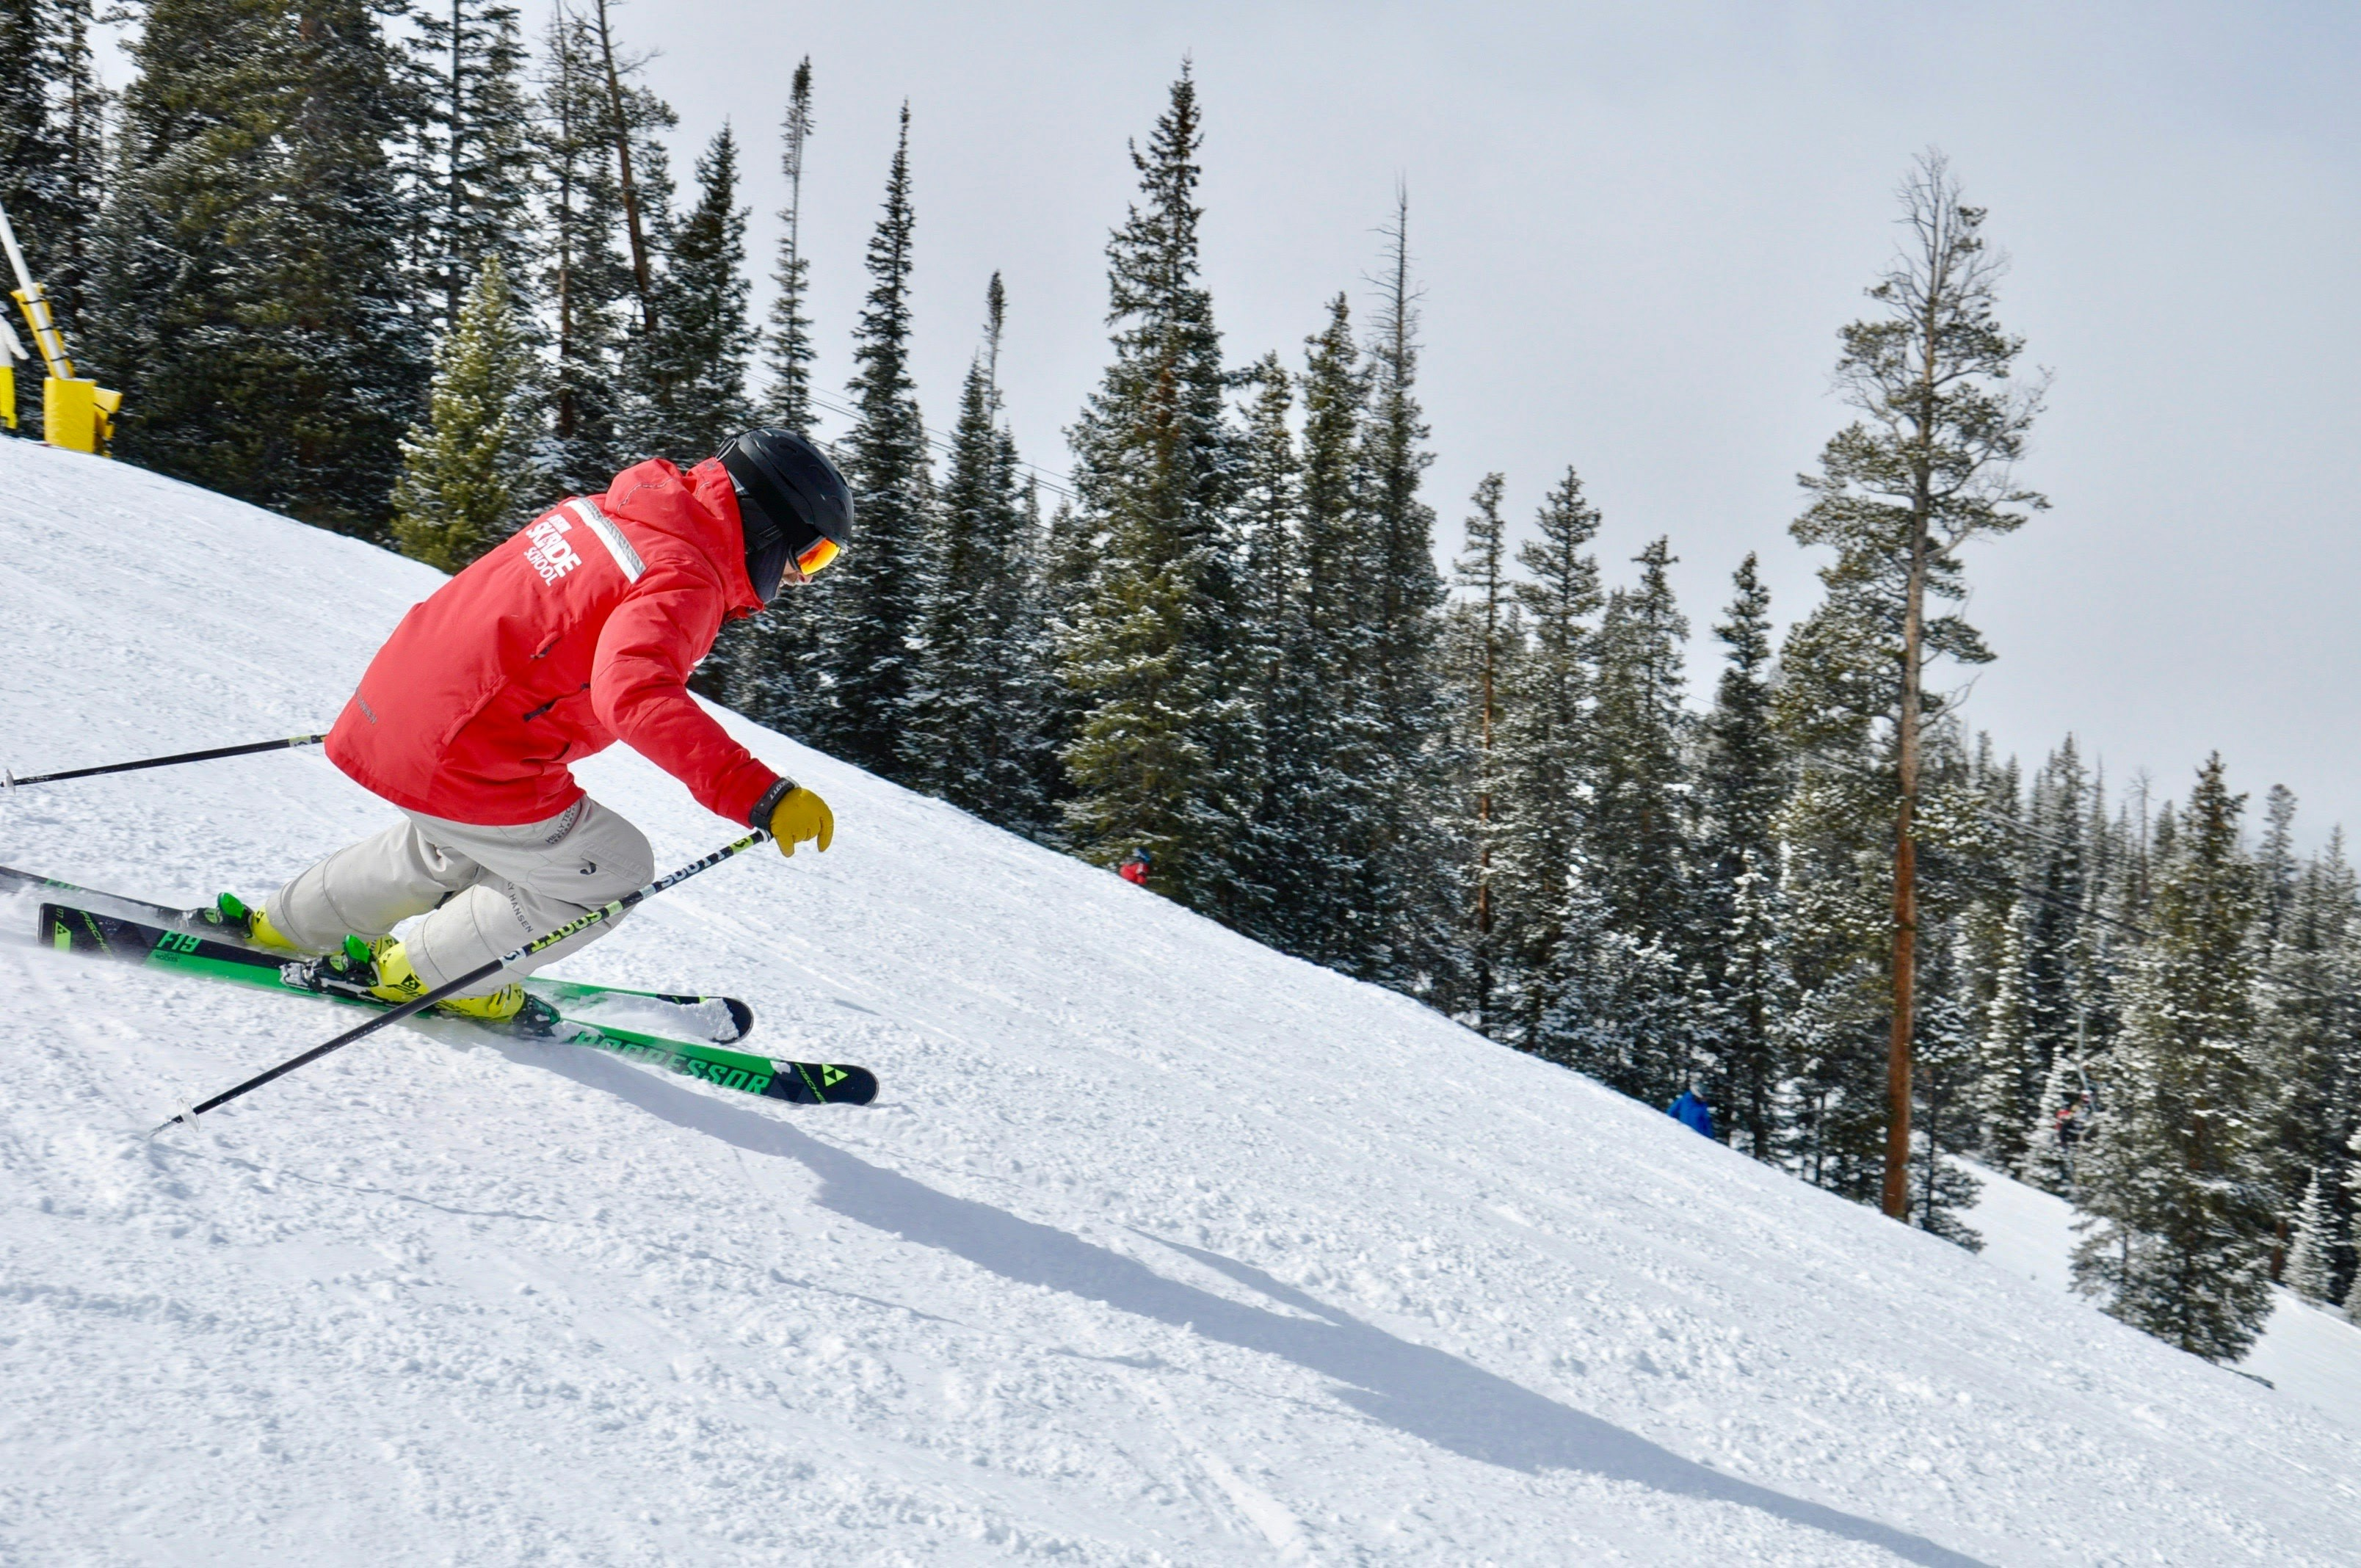skier: (0, 425, 882, 1155)
